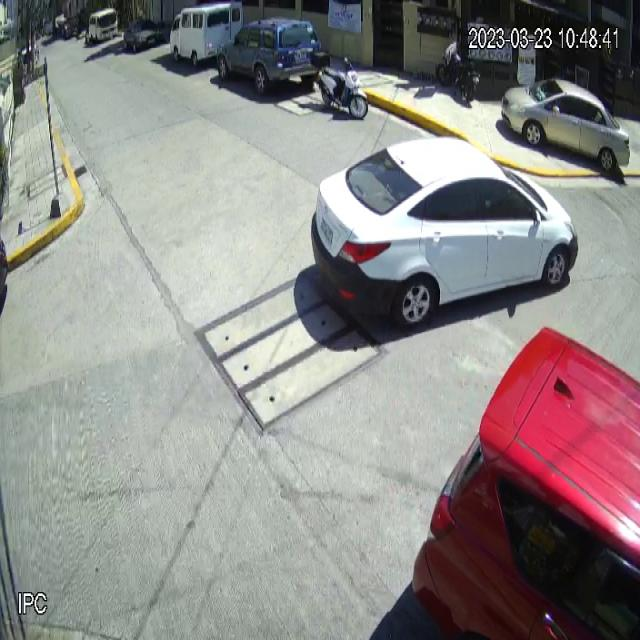Car: (309, 136, 579, 332), (500, 76, 630, 173), (217, 16, 322, 95)
Motorcycle: (311, 51, 368, 120)
Van: (170, 0, 244, 67)
